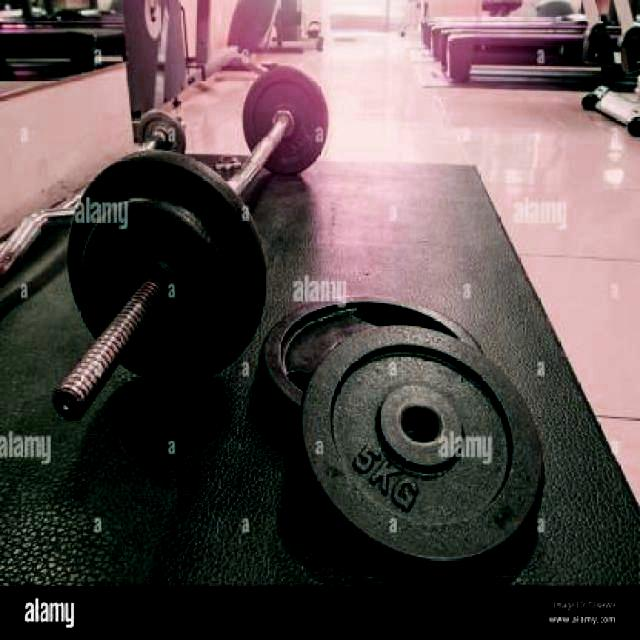barbell: (39, 143, 272, 430)
